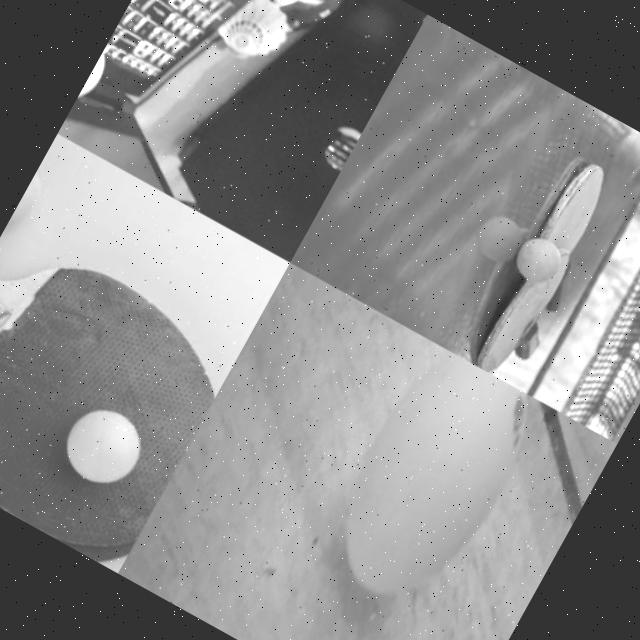ping-pong-ball: (308, 340, 548, 626), (54, 396, 152, 496), (510, 231, 568, 290), (6, 166, 54, 235), (72, 43, 116, 111)
